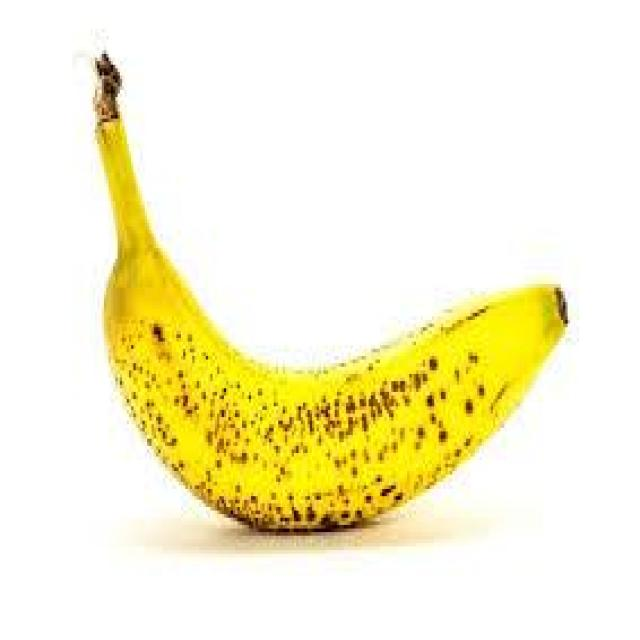organic: (95, 86, 570, 536)
